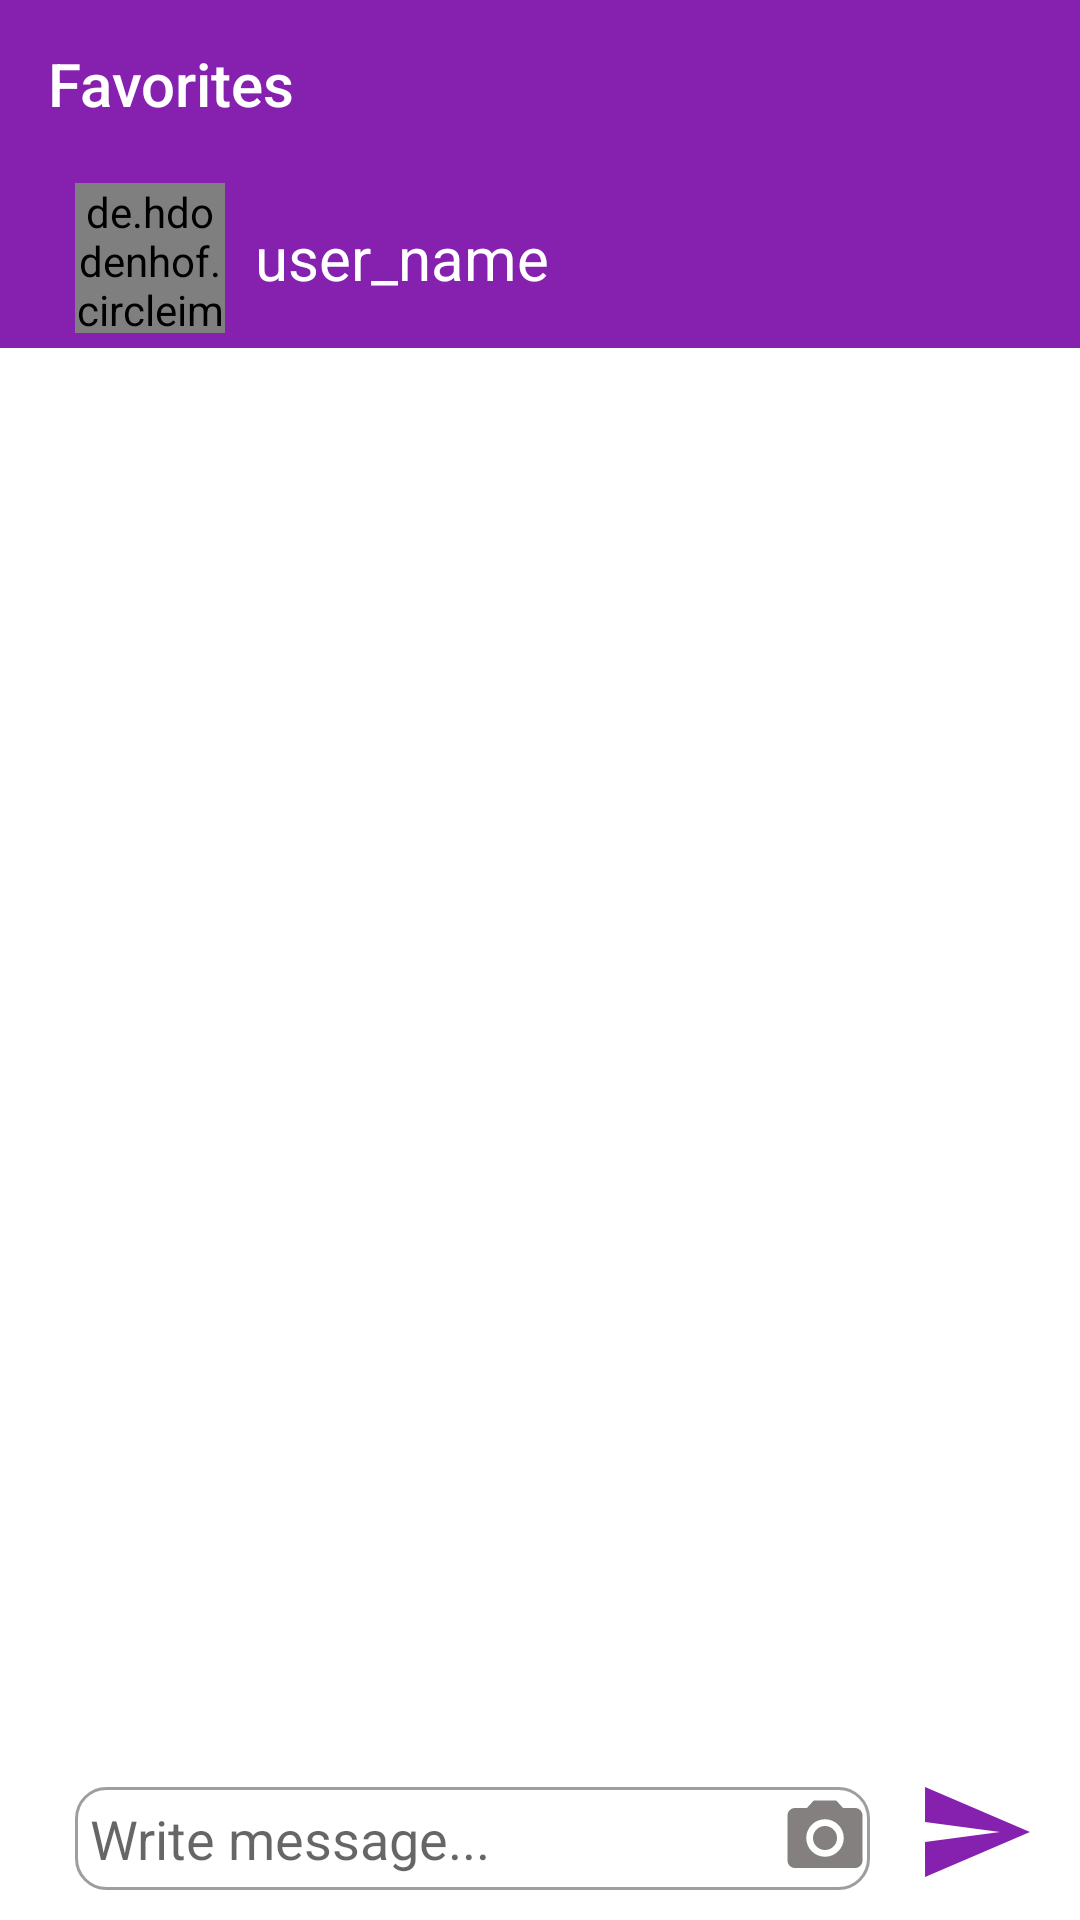

Icons on this 1080 × 1920 Android screen, each with its box as (x1, y1, x2, y2):
photo camera: (787, 1800, 863, 1868)
send: (925, 1787, 1030, 1877)
